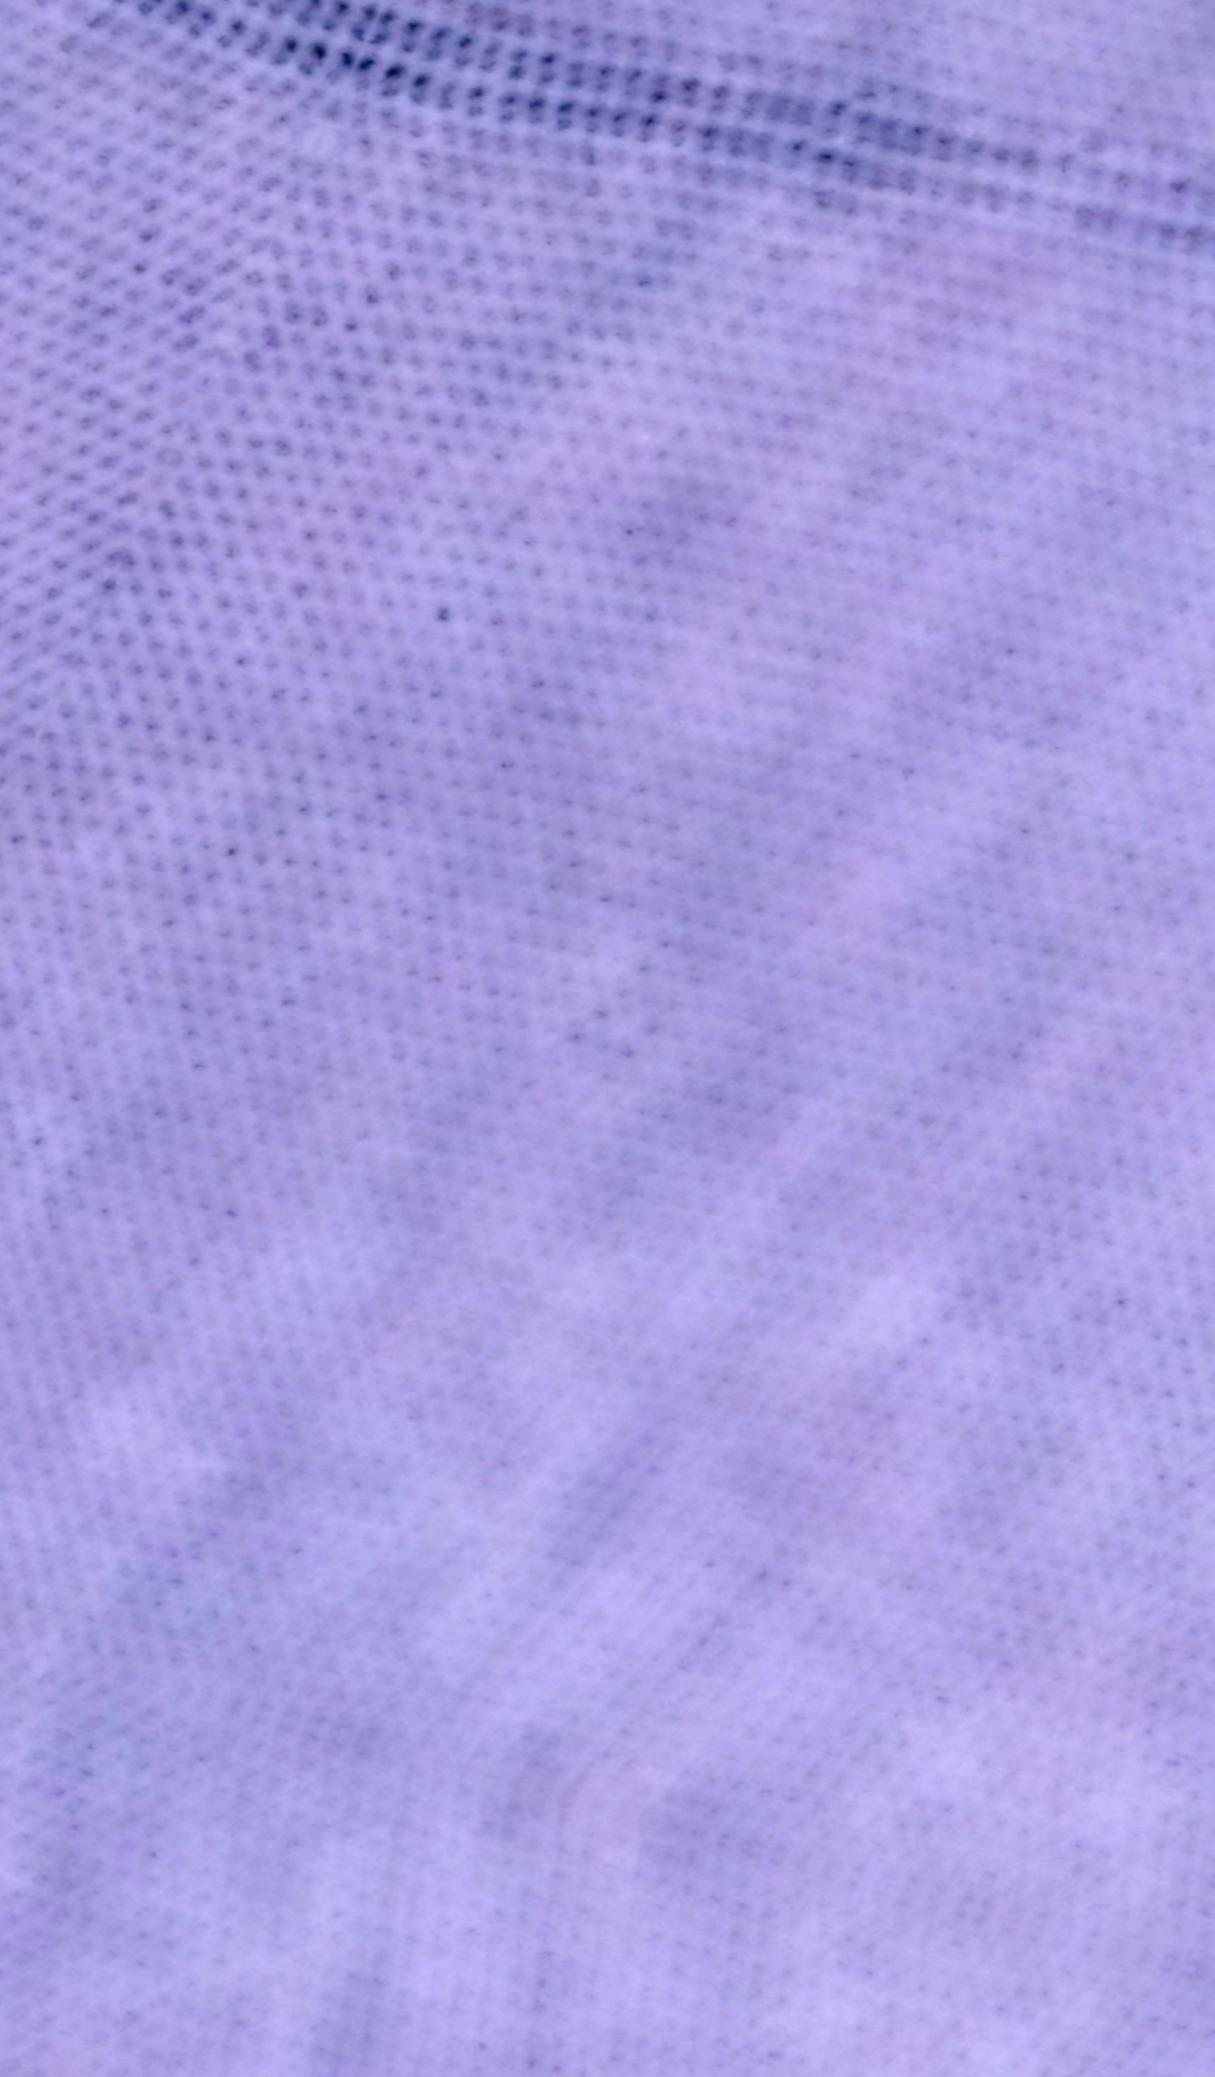slub: (135, 0, 1215, 297)
